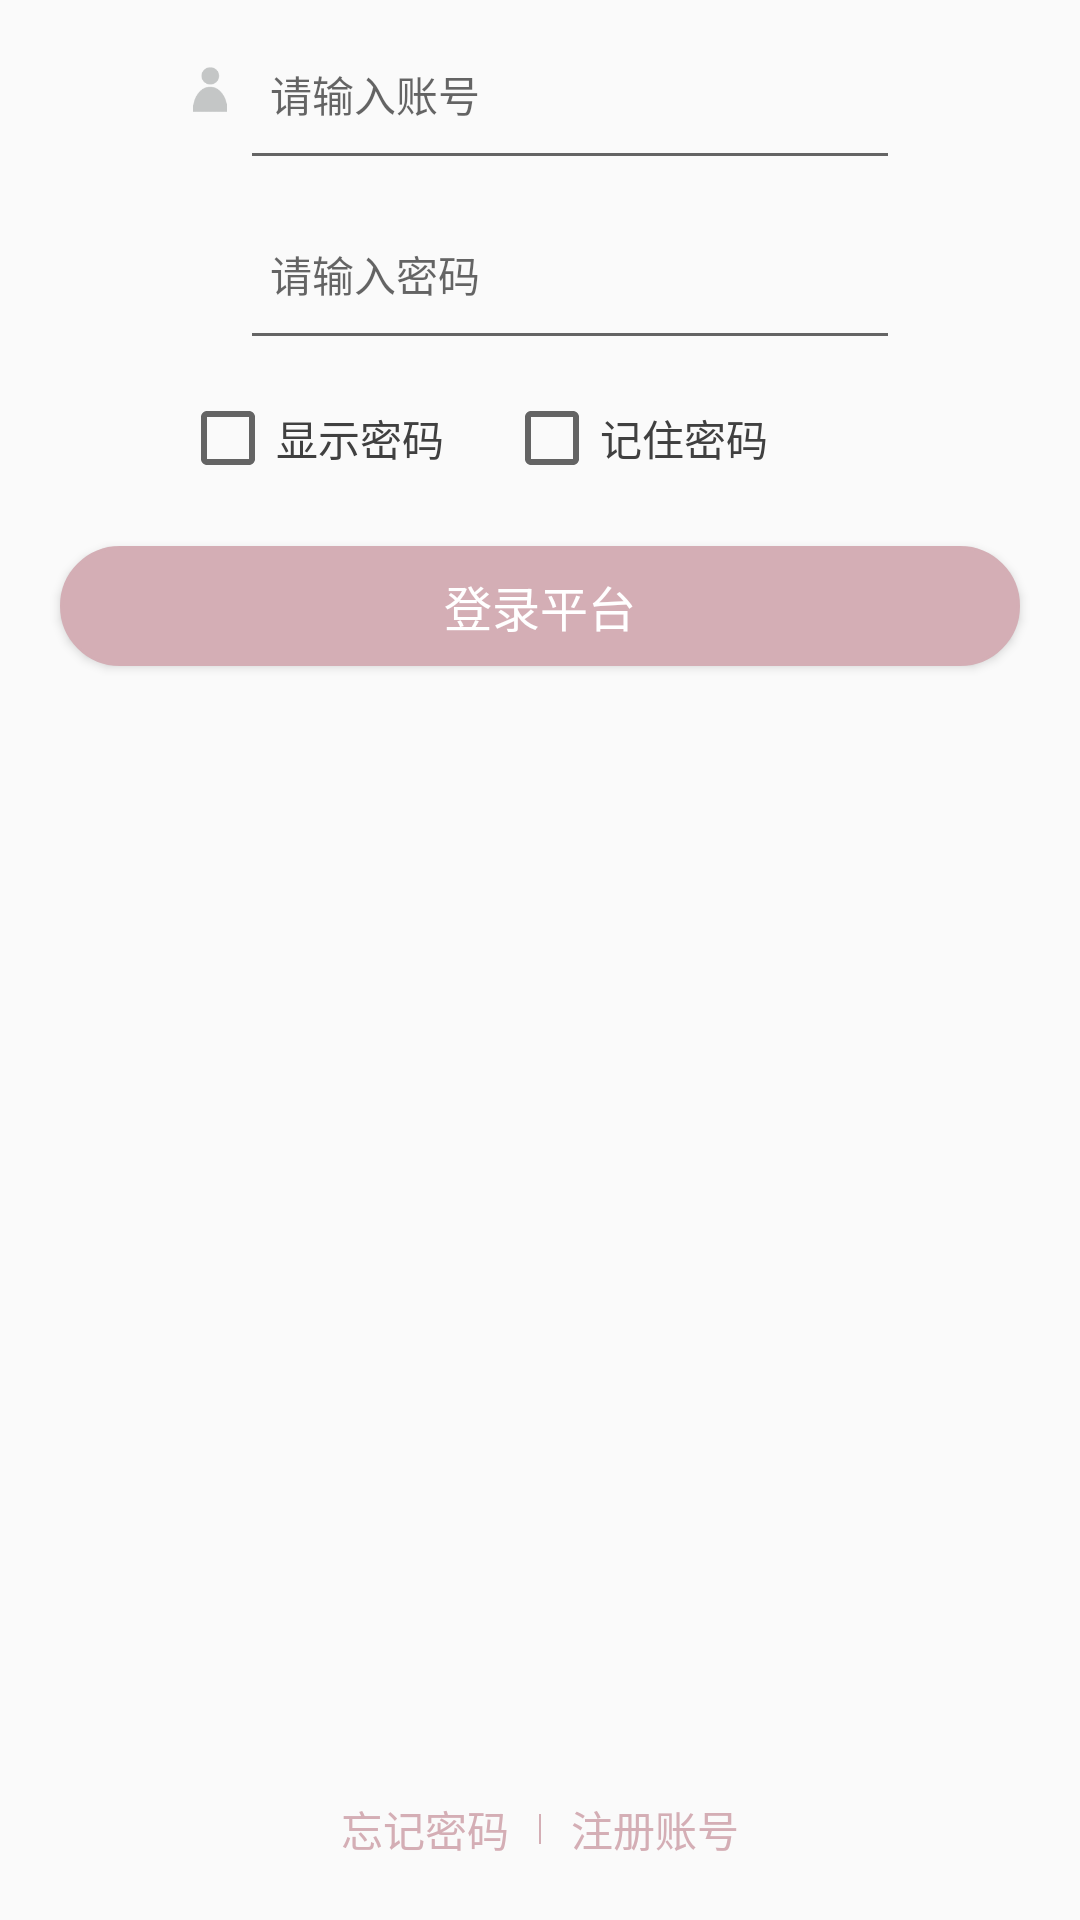

Screen size 1080px x 1920px. Icon name, then its center in pixels as [x,y]:
username: [210,89]
